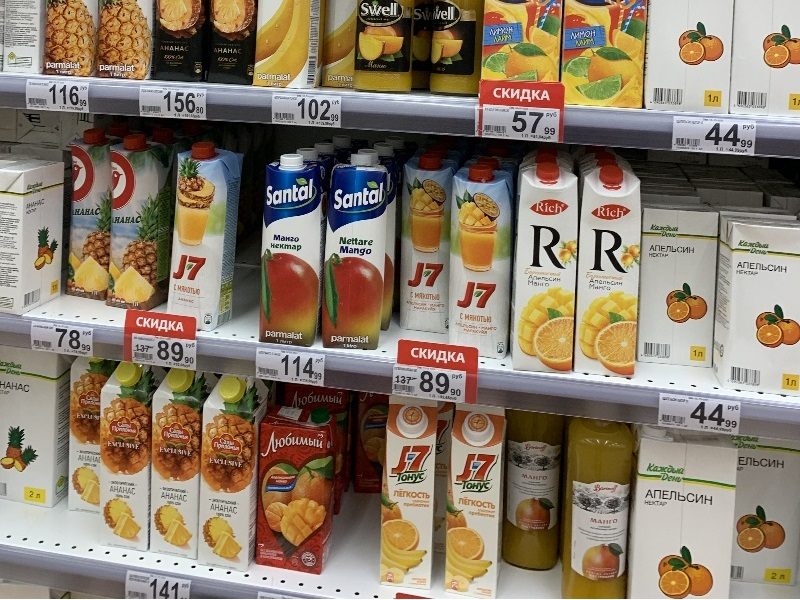juice: (571, 165, 652, 382), (440, 405, 529, 597), (317, 153, 401, 352), (502, 161, 582, 369), (254, 403, 344, 585), (165, 137, 242, 333), (258, 153, 331, 351), (100, 134, 177, 312), (196, 377, 267, 569), (447, 166, 519, 354), (377, 393, 445, 592), (97, 366, 164, 551), (146, 367, 211, 557), (394, 156, 463, 332)
